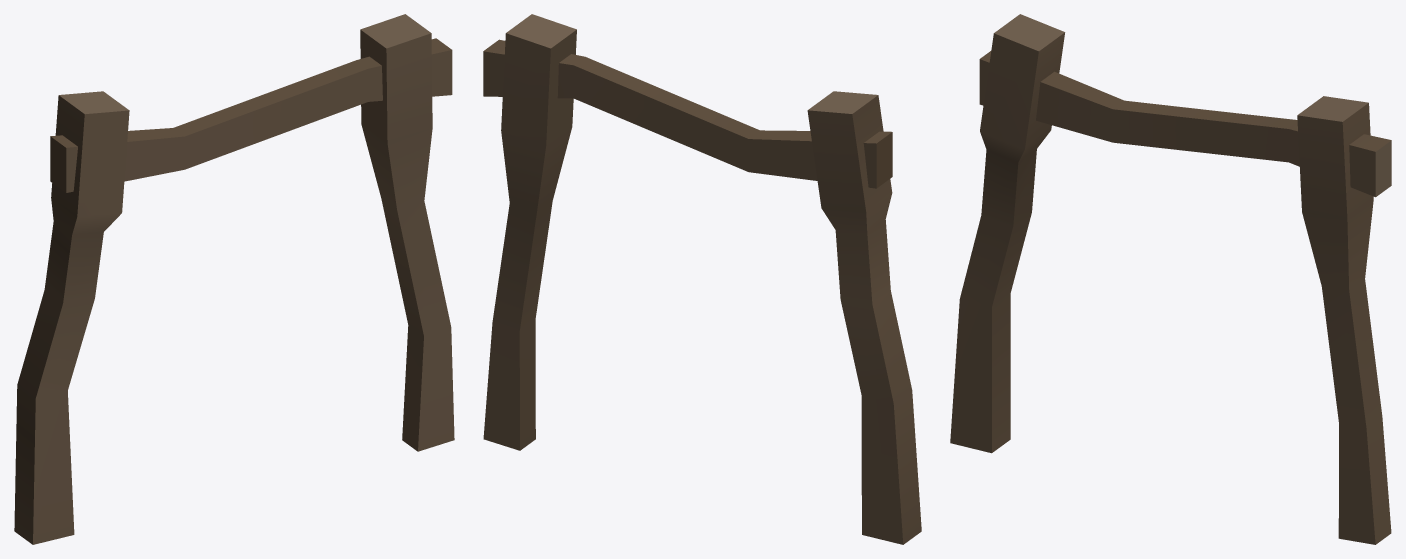
The model's file is SD_Env_Goblin_Tunnel_Supports_02.fbx.
3 views of the same model, side by side, from view 1: azimuth 30°, elevation 25°; view 2: azimuth 150°, elevation 25°; view 3: azimuth 330°, elevation 25° (orthographic).
Parts seen in each view (by area): view 1: SD_Env_Goblin_Tunnel_Supports_02; view 2: SD_Env_Goblin_Tunnel_Supports_02; view 3: SD_Env_Goblin_Tunnel_Supports_02.
Part boxes in pixels (bbox=[...]): SD_Env_Goblin_Tunnel_Supports_02: bbox=[14, 14, 454, 544]; SD_Env_Goblin_Tunnel_Supports_02: bbox=[483, 14, 921, 544]; SD_Env_Goblin_Tunnel_Supports_02: bbox=[950, 14, 1391, 544].
Bounding box in the file's own units: 3.72 × 3.57 × 0.4761.
